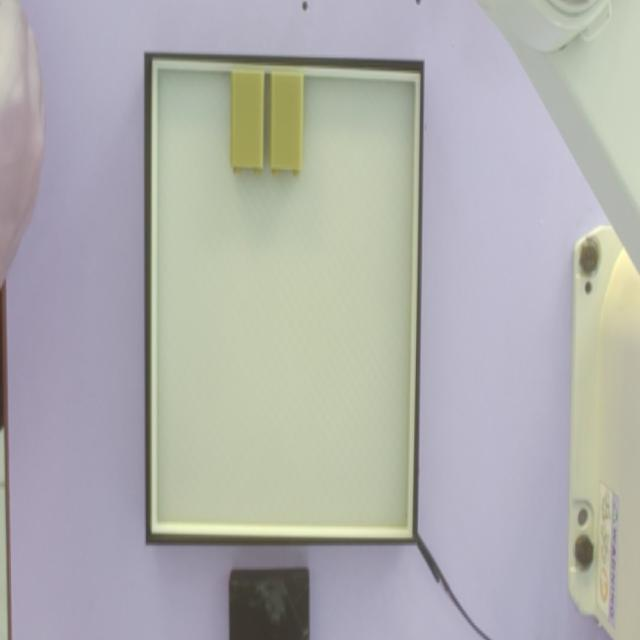bateria: (270, 75, 302, 177), (231, 73, 263, 174)
mesa: (145, 53, 424, 546)
